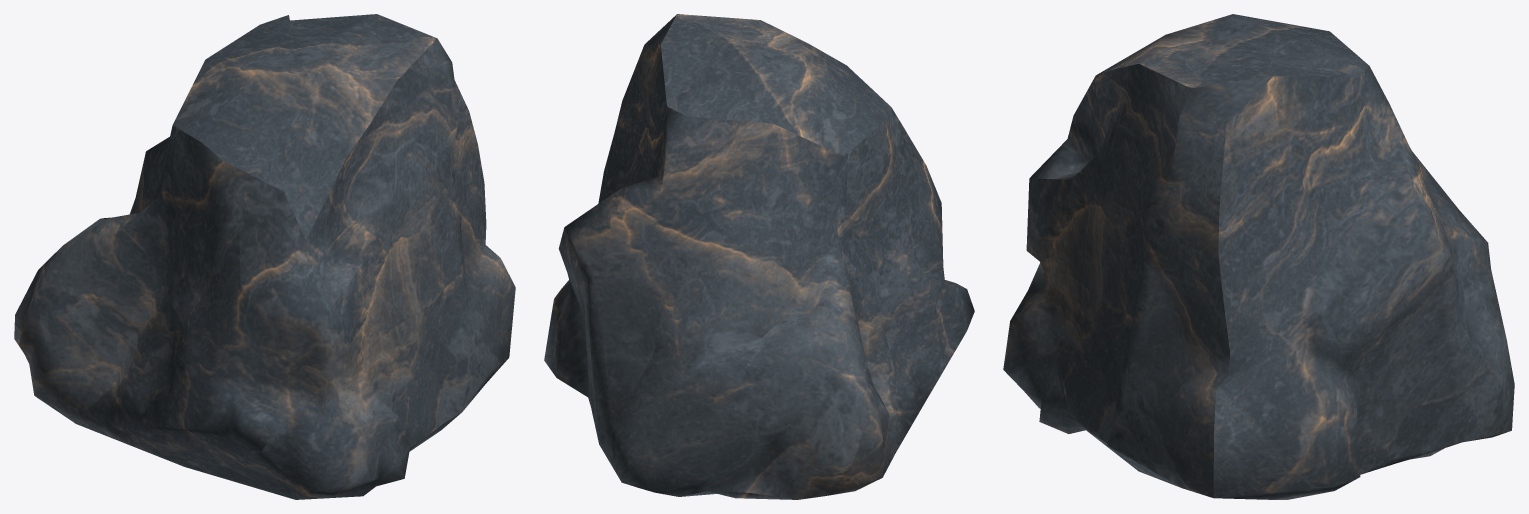
File: Rocher01_low_LOD2.fbx
3 renders of one model, left to right at view 1: azimuth 30°, elevation 25°; view 2: azimuth 150°, elevation 25°; view 3: azimuth 270°, elevation 25°, orthographic. The views are drawn at different scales.
Parts seen in each view (by area): view 1: Rocher01_low_0; view 2: Rocher01_low_0; view 3: Rocher01_low_0.
Part boxes in pixels (left/top/right/bottom): Rocher01_low_0: left=14, top=14, right=515, bottom=499; Rocher01_low_0: left=544, top=14, right=974, bottom=499; Rocher01_low_0: left=1003, top=14, right=1514, bottom=499.
Size of the model in its own units: 21.25 by 19.04 by 21.63.
1 material, 1 textured.
